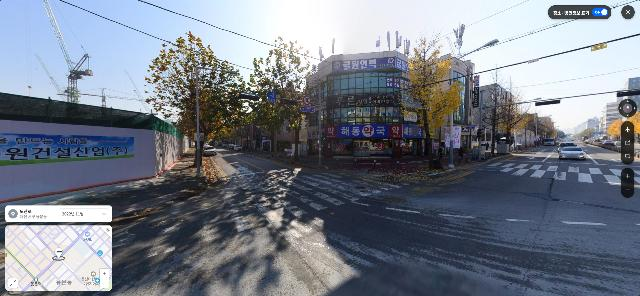ginkgo: (399, 28, 468, 171)
other: (143, 31, 250, 176), (244, 37, 321, 166)
